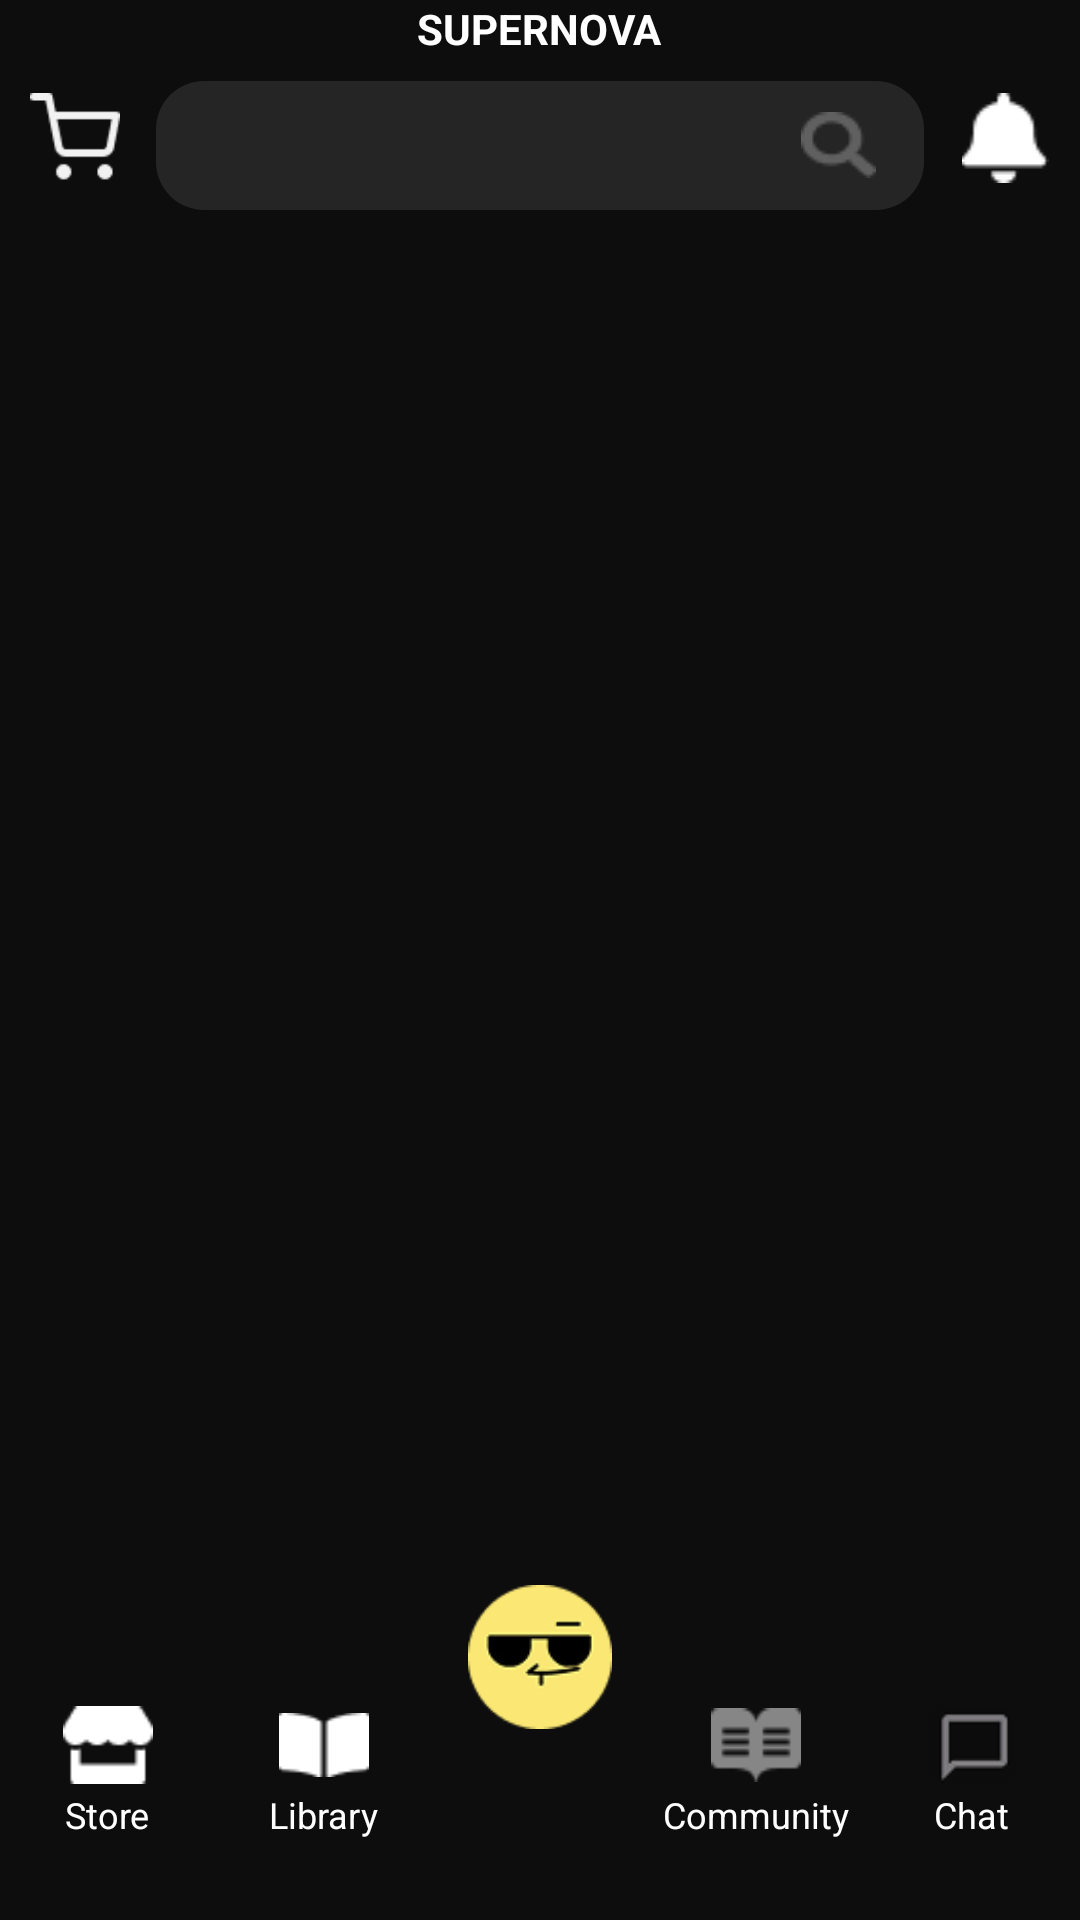

Named icons in this screenshot (1080 × 1920) and their bounding boxes, (x1,y1,x2,y2):
cart: (30,93,120,180)
defaultprof: (468,1585,612,1729)
notif bell: (962,93,1049,183)
